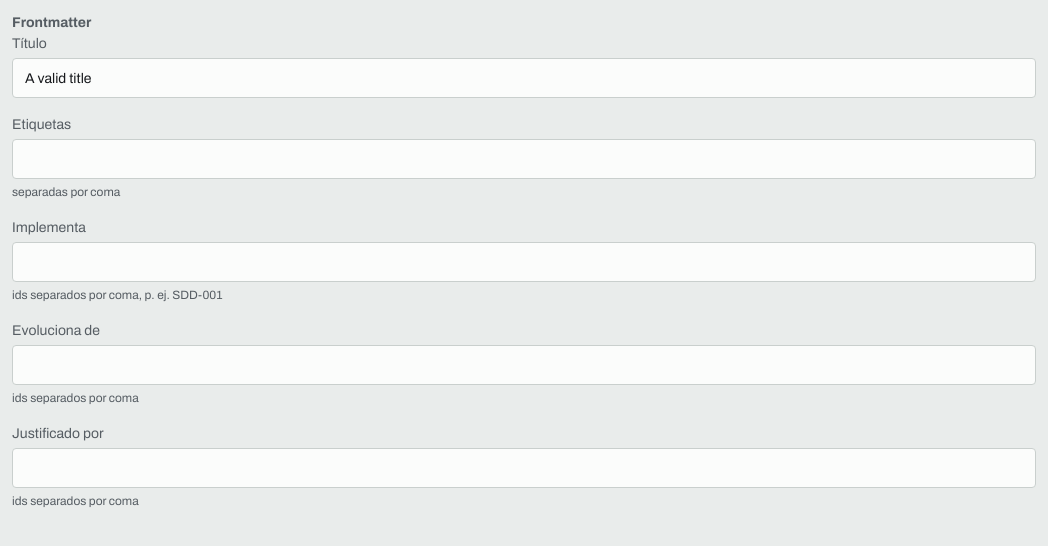
Test: FrontmatterForm › shows a validation error for an invalid field without blocking the write
Type "not-an-id" into the field labelled "Implementa" at [524, 262], box [12,242,1036,282]
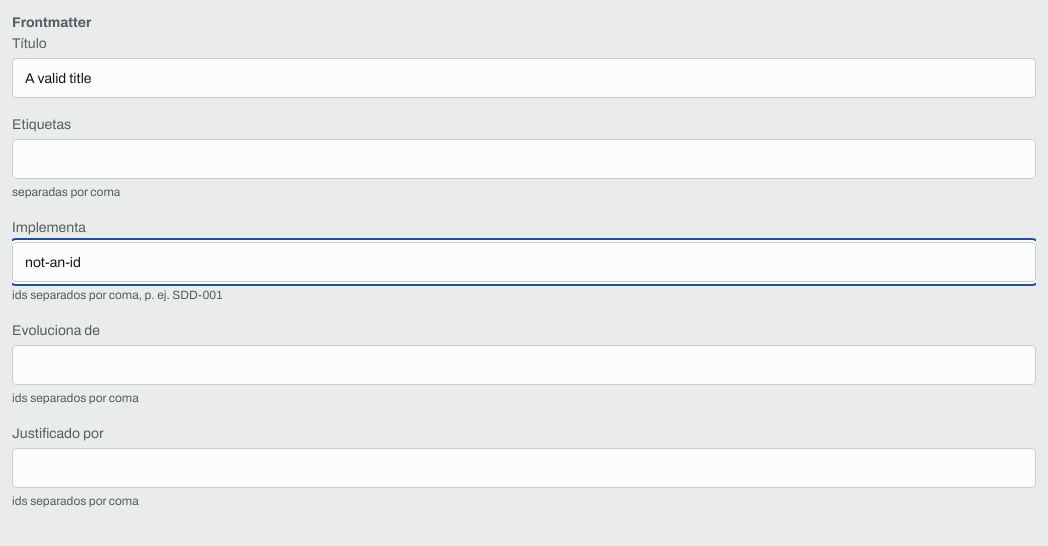
Press Tab
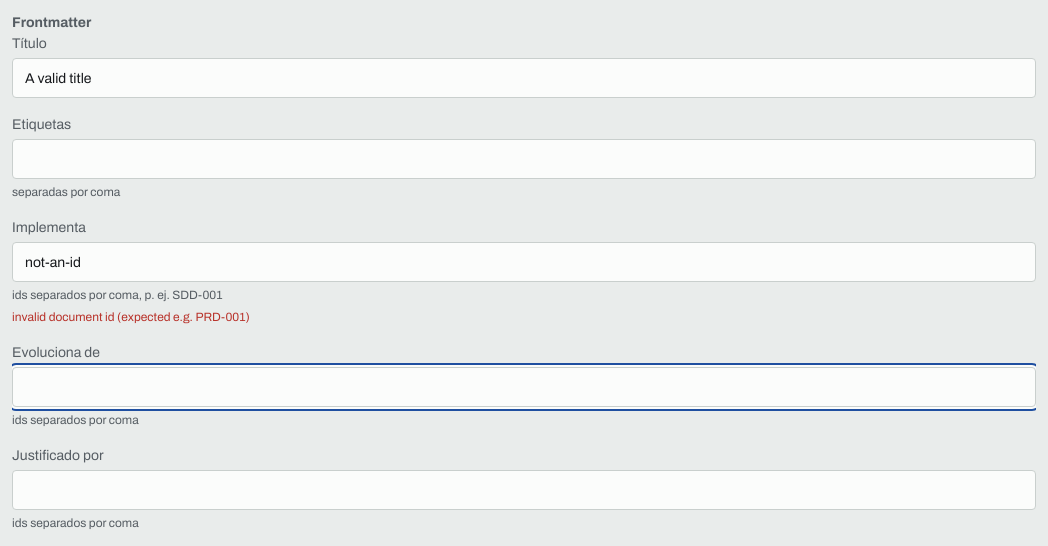
Check: the message "invalid document id (expected e.g. PRD-001)" is shown, box [12,310,250,324]
